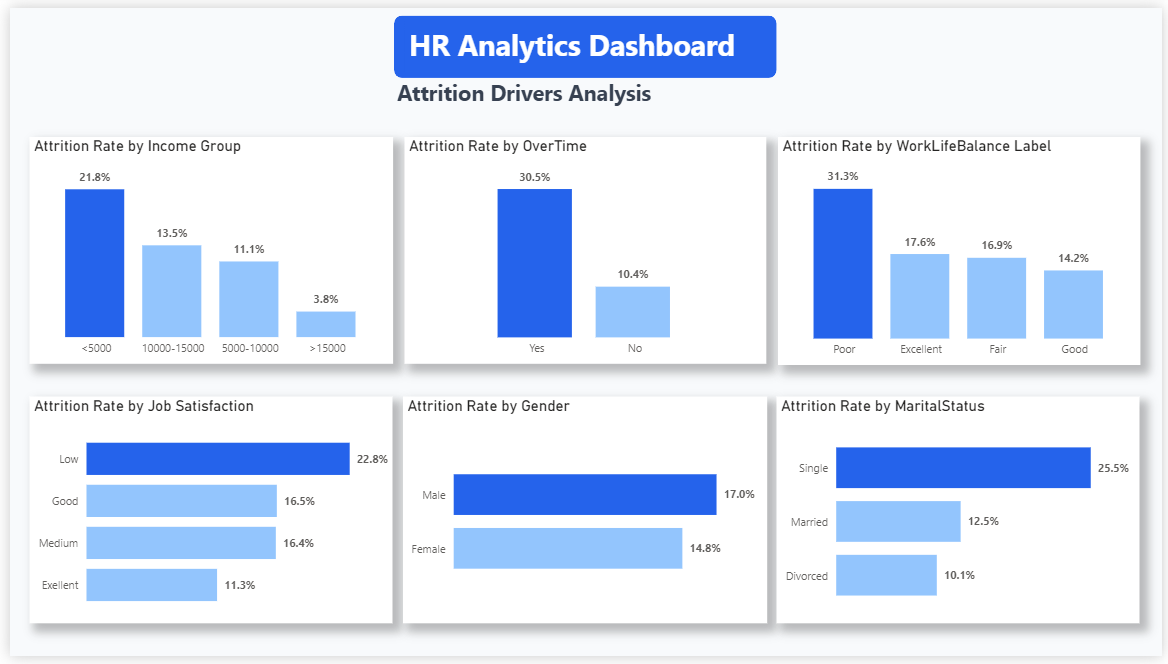

Layout of this report page (visuals, bound fields, positions):
{"tool":"powerbi","page":{"name":"Attrition Drivers Analysis","canvas":[1280,720],"ordinal":1},"visuals":[{"type":"shape","box":[426,8,425.2,69.5],"z":0,"group":"g1"},{"type":"textbox","box":[425.6,71.1,410,55.6],"z":0},{"type":"group","id":"g1","title":"Group 1","box":[426,8,426,70],"z":1000},{"type":"textbox","box":[437.3,13.5,411,57.3],"z":1000,"group":"g1"},{"type":"clusteredColumnChart","fields":{"Y":["HR_Employee_Attrition.Attrition Rate"],"Category":["HR_Employee_Attrition.Income Group"]},"box":[22,144,404,252],"z":2000},{"type":"clusteredColumnChart","fields":{"Y":["HR_Employee_Attrition.Attrition Rate"],"Category":["HR_Employee_Attrition.OverTime"]},"box":[438.5,143.1,402.3,252.3],"z":3000},{"type":"clusteredColumnChart","fields":{"Y":["HR_Employee_Attrition.Attrition Rate"],"Category":["HR_Employee_Attrition.WorkLifeBalance Label"]},"box":[852.7,143.6,402.7,253.6],"z":4000},{"type":"clusteredBarChart","fields":{"Category":["HR_Employee_Attrition.Job Satisfaction"],"Y":["HR_Employee_Attrition.Attrition Rate"]},"box":[22.2,431.1,403.3,252.2],"z":5000},{"type":"clusteredBarChart","fields":{"Y":["HR_Employee_Attrition.Attrition Rate"],"Category":["HR_Employee_Attrition.Gender"]},"box":[436.7,431.1,404.4,252.2],"z":6000},{"type":"clusteredBarChart","fields":{"Y":["HR_Employee_Attrition.Attrition Rate"],"Category":["HR_Employee_Attrition.MaritalStatus"]},"box":[852.2,432.2,403.3,252.2],"z":7000}]}

Visuals, with their boxes in screenshot pixels (x1, y1, x2, y2), scaled from the page's 1280x720 canvas onto the 1168x664 screenshot:
shape: select_region(389, 7, 777, 71)
textbox: select_region(388, 66, 762, 117)
"Group 1" group: select_region(389, 7, 777, 72)
textbox: select_region(399, 12, 774, 65)
clusteredColumnChart - HR_Employee_Attrition.Attrition Rate x HR_Employee_Attrition.Income Group: select_region(20, 133, 389, 365)
clusteredColumnChart - HR_Employee_Attrition.Attrition Rate x HR_Employee_Attrition.OverTime: select_region(400, 132, 767, 365)
clusteredColumnChart - HR_Employee_Attrition.Attrition Rate x HR_Employee_Attrition.WorkLifeBalance Label: select_region(778, 132, 1146, 366)
clusteredBarChart - HR_Employee_Attrition.Job Satisfaction x HR_Employee_Attrition.Attrition Rate: select_region(20, 398, 388, 630)
clusteredBarChart - HR_Employee_Attrition.Attrition Rate x HR_Employee_Attrition.Gender: select_region(398, 398, 768, 630)
clusteredBarChart - HR_Employee_Attrition.Attrition Rate x HR_Employee_Attrition.MaritalStatus: select_region(778, 399, 1146, 631)
